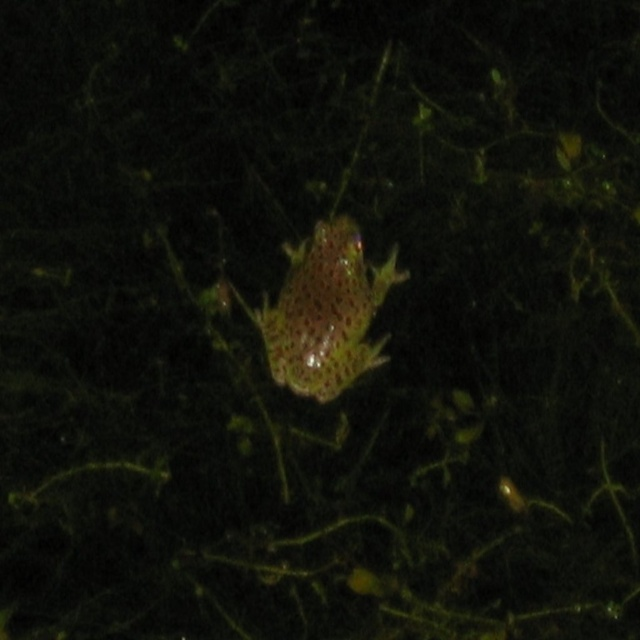Frog: (254, 213, 413, 402)
